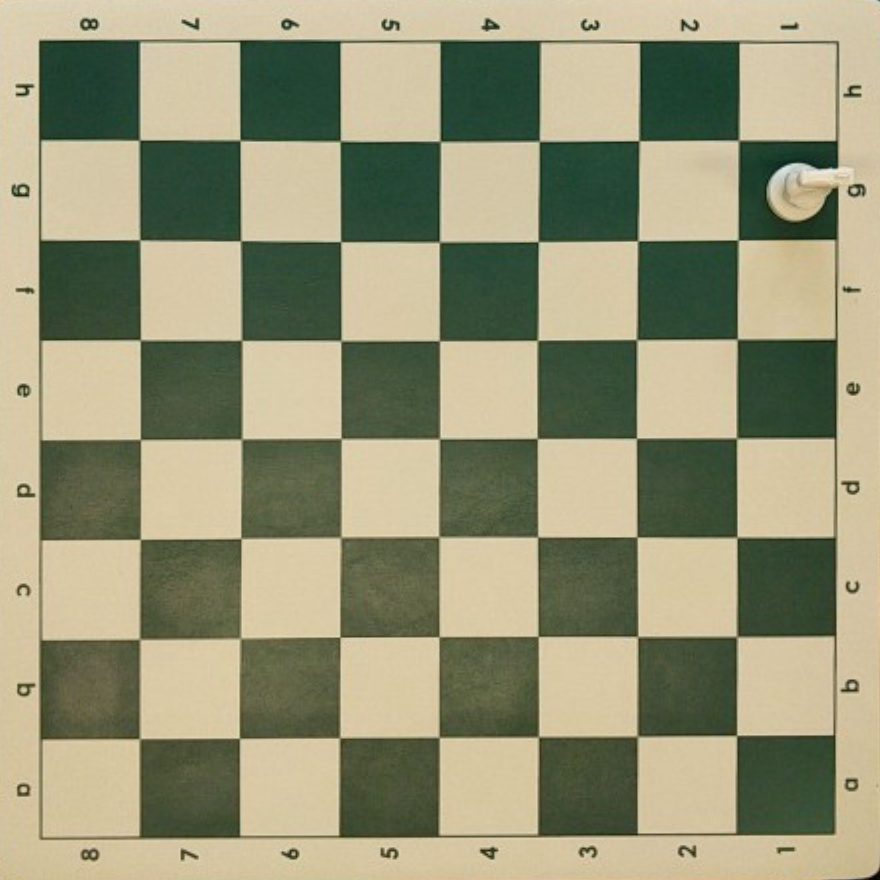white-knight: (766, 161, 864, 222)
